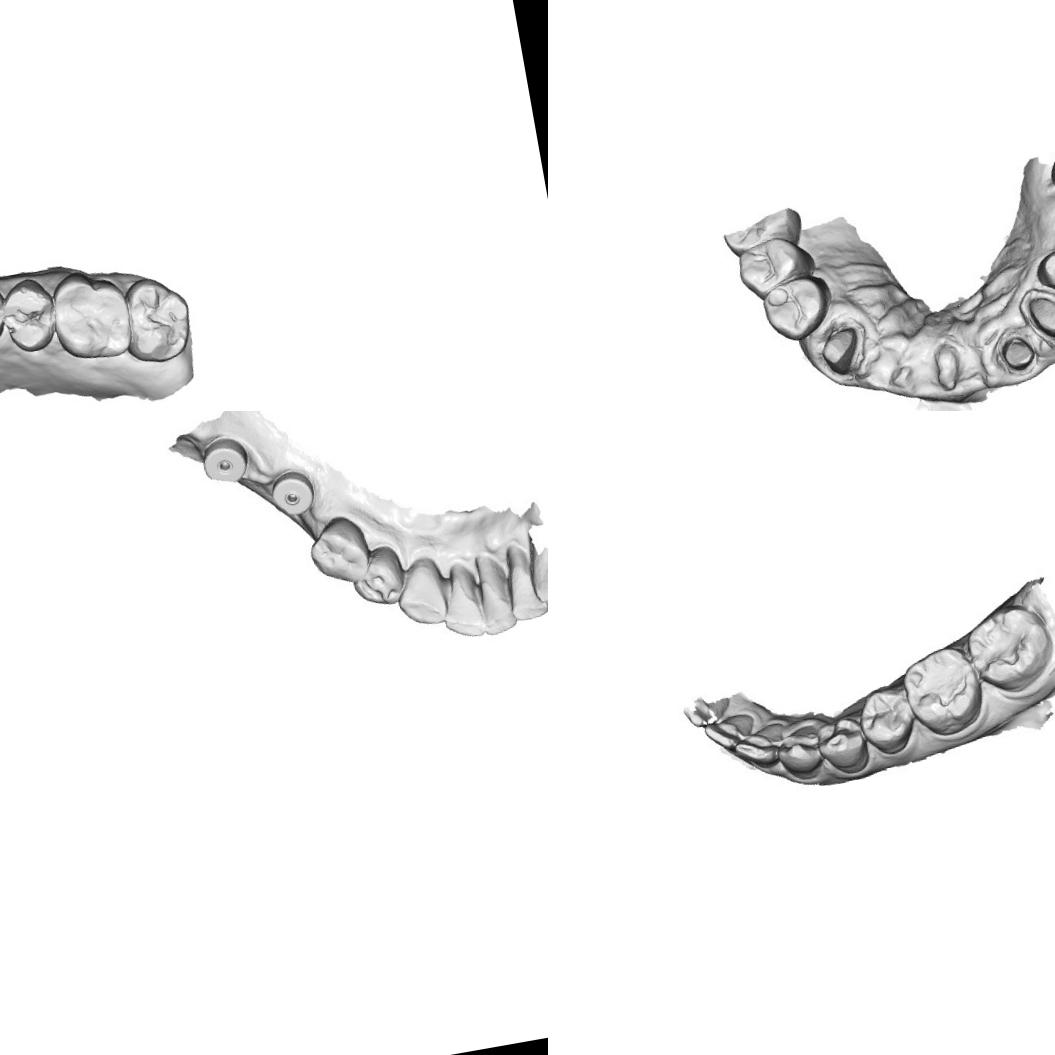canine: (392, 557, 448, 630), (774, 720, 826, 779)
crown: (814, 322, 866, 374), (994, 328, 1044, 376), (1024, 290, 1055, 344)
implant: (262, 463, 324, 524), (197, 432, 250, 488)
incisor: (470, 552, 520, 636), (438, 562, 489, 636), (501, 549, 548, 618), (702, 703, 762, 754), (732, 721, 786, 770)
molar: (960, 596, 1055, 702), (897, 640, 987, 742), (47, 263, 135, 366), (114, 270, 198, 369)
premolar: (732, 230, 820, 304), (760, 271, 837, 344), (306, 515, 376, 585), (0, 273, 59, 356), (856, 682, 917, 758), (344, 543, 409, 610), (810, 707, 871, 778), (1030, 235, 1055, 311)
